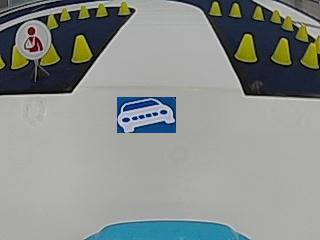cone: (235, 33, 257, 62), (70, 35, 92, 63), (272, 38, 291, 65), (40, 41, 59, 66), (302, 43, 318, 68), (10, 45, 27, 68), (296, 23, 308, 41), (209, 1, 222, 16), (46, 14, 59, 29), (95, 3, 108, 17), (77, 5, 90, 19), (229, 3, 242, 17), (281, 15, 293, 30), (117, 2, 130, 15), (252, 6, 264, 20), (60, 8, 71, 20), (271, 9, 281, 22)
patient: (16, 16, 45, 55)
